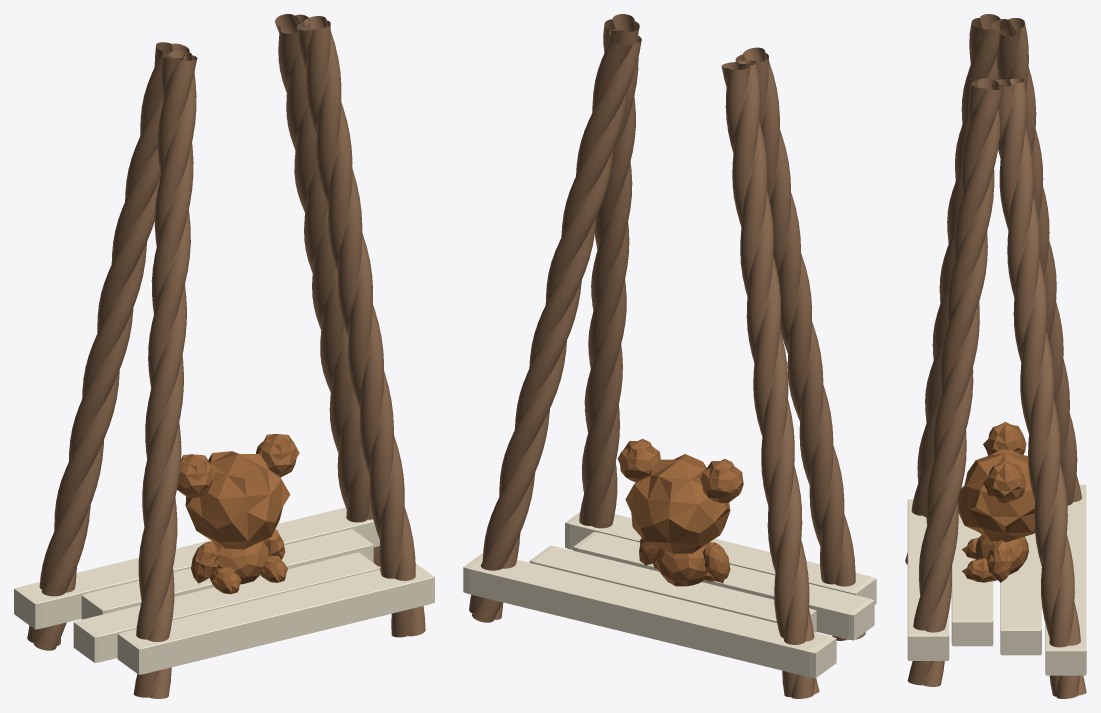
File: ObstacleDecoration.obj
3 views of the same model, side by side, from view 1: azimuth 30°, elevation 25°; view 2: azimuth 150°, elevation 25°; view 3: azimuth 270°, elevation 25° (orthographic). The views are drawn at different scales.
Visible parts, largest first — view 1: 円.002, 立方体.003, ICO球.001; view 2: 円.002, 立方体.003, ICO球.001; view 3: 円.002, 立方体.003, ICO球.001.
Part boxes in pixels (left/top/right/bottom): 円.002: left=27, top=14, right=425, bottom=698; 立方体.003: left=14, top=507, right=434, bottom=674; ICO球.001: left=177, top=434, right=299, bottom=594; 円.002: left=469, top=14, right=865, bottom=698; 立方体.003: left=463, top=512, right=876, bottom=678; ICO球.001: left=617, top=438, right=743, bottom=586; 円.002: left=905, top=14, right=1086, bottom=698; 立方体.003: left=907, top=484, right=1086, bottom=675; ICO球.001: left=958, top=421, right=1034, bottom=582.
Size of the model in its own units: 1.95 by 3.1 by 0.8912.
Materials: 1 (1 with a texture image).
